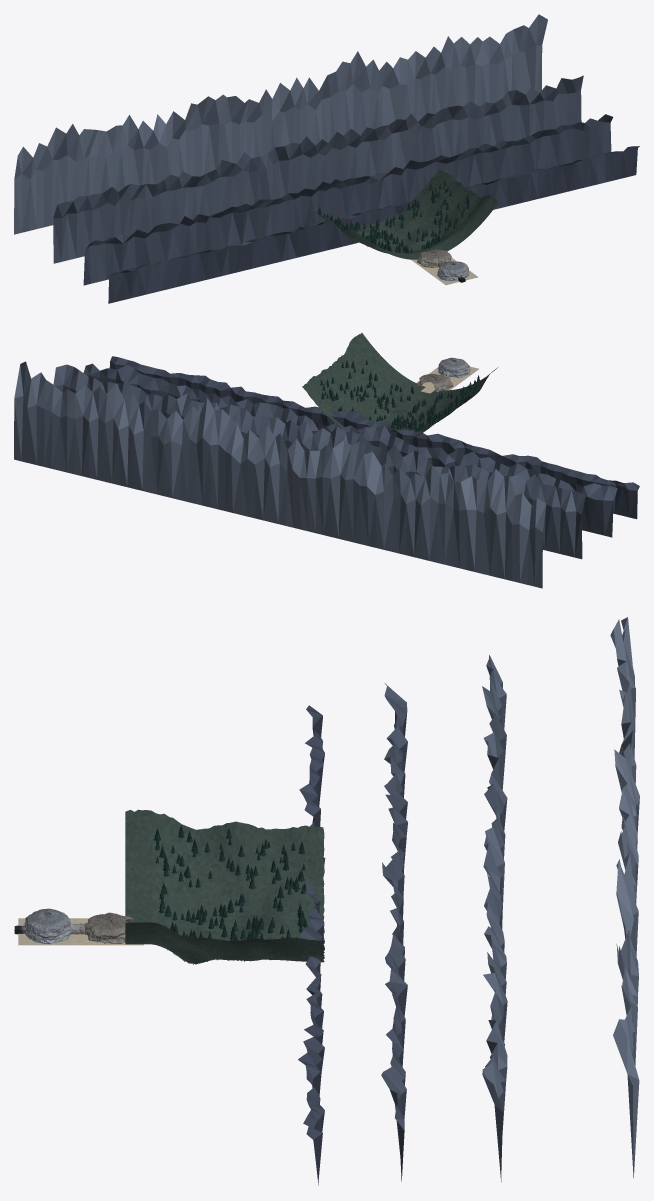
The model's file is twin_cave_lowpoly.glb.
3 views of the same model, one above another, from view 1: azimuth 30°, elevation 25°; view 2: azimuth 150°, elevation 25°; view 3: azimuth 270°, elevation 25° (orthographic). The views are drawn at different scales.
Visible parts, largest first — view 1: TValley, THallA, THallD; view 2: TValley, THallA, THallD; view 3: TValley, THallA, THallD, TGround.
Part boxes in pixels (bbox=[...]): TValley: bbox=[14, 14, 639, 303]; THallA: bbox=[437, 261, 469, 280]; THallD: bbox=[417, 249, 451, 267]; TValley: bbox=[14, 333, 639, 588]; THallA: bbox=[438, 357, 470, 377]; THallD: bbox=[417, 373, 453, 391]; TValley: bbox=[125, 617, 639, 1185]; THallA: bbox=[24, 908, 71, 944]; THallD: bbox=[85, 912, 134, 943]; TGround: bbox=[18, 918, 143, 945].
Size of the model in its own units: 920 by 174 by 566.
